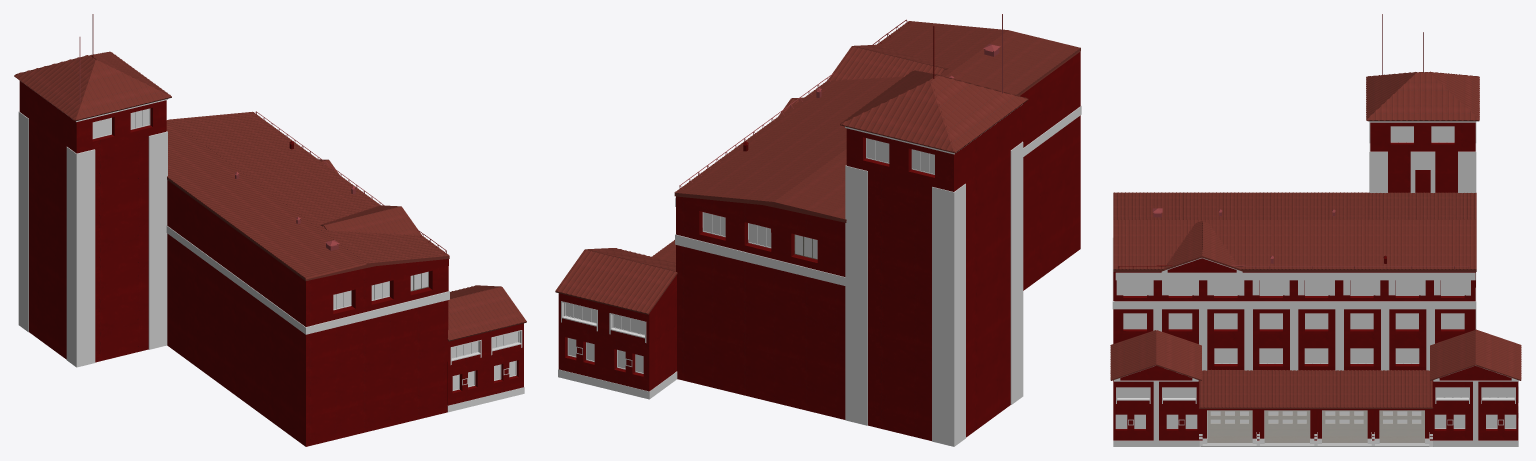
File: Pozharnaya_stantsia.fbx
The picture shows the model from 3 angles, left to right: view 1: azimuth 30°, elevation 25°; view 2: azimuth 150°, elevation 25°; view 3: azimuth 270°, elevation 25°; orthographic projection. The views are drawn at different scales.
Parts seen in each view (by area): view 1: Cube.008, Cube.030, roof, roof2, Cube.005, roof9, roof10, roof8, roof5, roof6, roof3; view 2: Cube.030, Cube.008, roof, Cube.002, roof2, roof13, roof7, roof8, roof4, roof6, roof12, roof3; view 3: Cube.008, roof, roof2, roof14, Cube.030, Cube.005, Cube.002, roof6, roof13, roof11, roof10, roof12 (+13 smaller).
Boxes of the visible parts, x1,y1,x2,y2 form: Cube.008: [166, 180, 449, 446]; Cube.030: [18, 56, 167, 367]; roof: [170, 111, 449, 264]; roof2: [166, 119, 366, 279]; Cube.005: [447, 323, 524, 412]; roof9: [74, 60, 171, 121]; roof10: [447, 287, 526, 341]; roof8: [14, 55, 94, 120]; roof5: [324, 206, 422, 235]; roof6: [90, 51, 171, 96]; roof3: [167, 178, 449, 280]; Cube.030: [845, 75, 1027, 446]; Cube.008: [675, 52, 1081, 419]; roof: [674, 21, 1008, 203]; Cube.002: [558, 275, 677, 399]; roof2: [774, 30, 1080, 221]; roof13: [555, 249, 677, 314]; roof7: [840, 80, 955, 153]; roof8: [930, 76, 1027, 153]; roof4: [827, 46, 944, 81]; roof6: [840, 70, 936, 125]; roof12: [585, 248, 675, 271]; roof3: [674, 50, 1080, 222]; Cube.008: [1112, 238, 1476, 370]; roof: [1113, 219, 1476, 269]; roof2: [1113, 192, 1476, 219]; roof14: [1199, 369, 1432, 408]; Cube.030: [1367, 72, 1476, 329]; Cube.005: [1111, 330, 1199, 446]; Cube.002: [1430, 330, 1518, 446]; roof6: [1367, 72, 1479, 121]; roof13: [1475, 329, 1521, 380]; roof11: [1156, 330, 1201, 380]; roof10: [1110, 330, 1155, 380]; roof12: [1430, 330, 1475, 379].
Bounding box in the file's own units: 5280 × 5212 × 6504.
